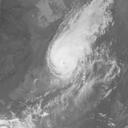cyclone: (44, 38, 85, 81)
